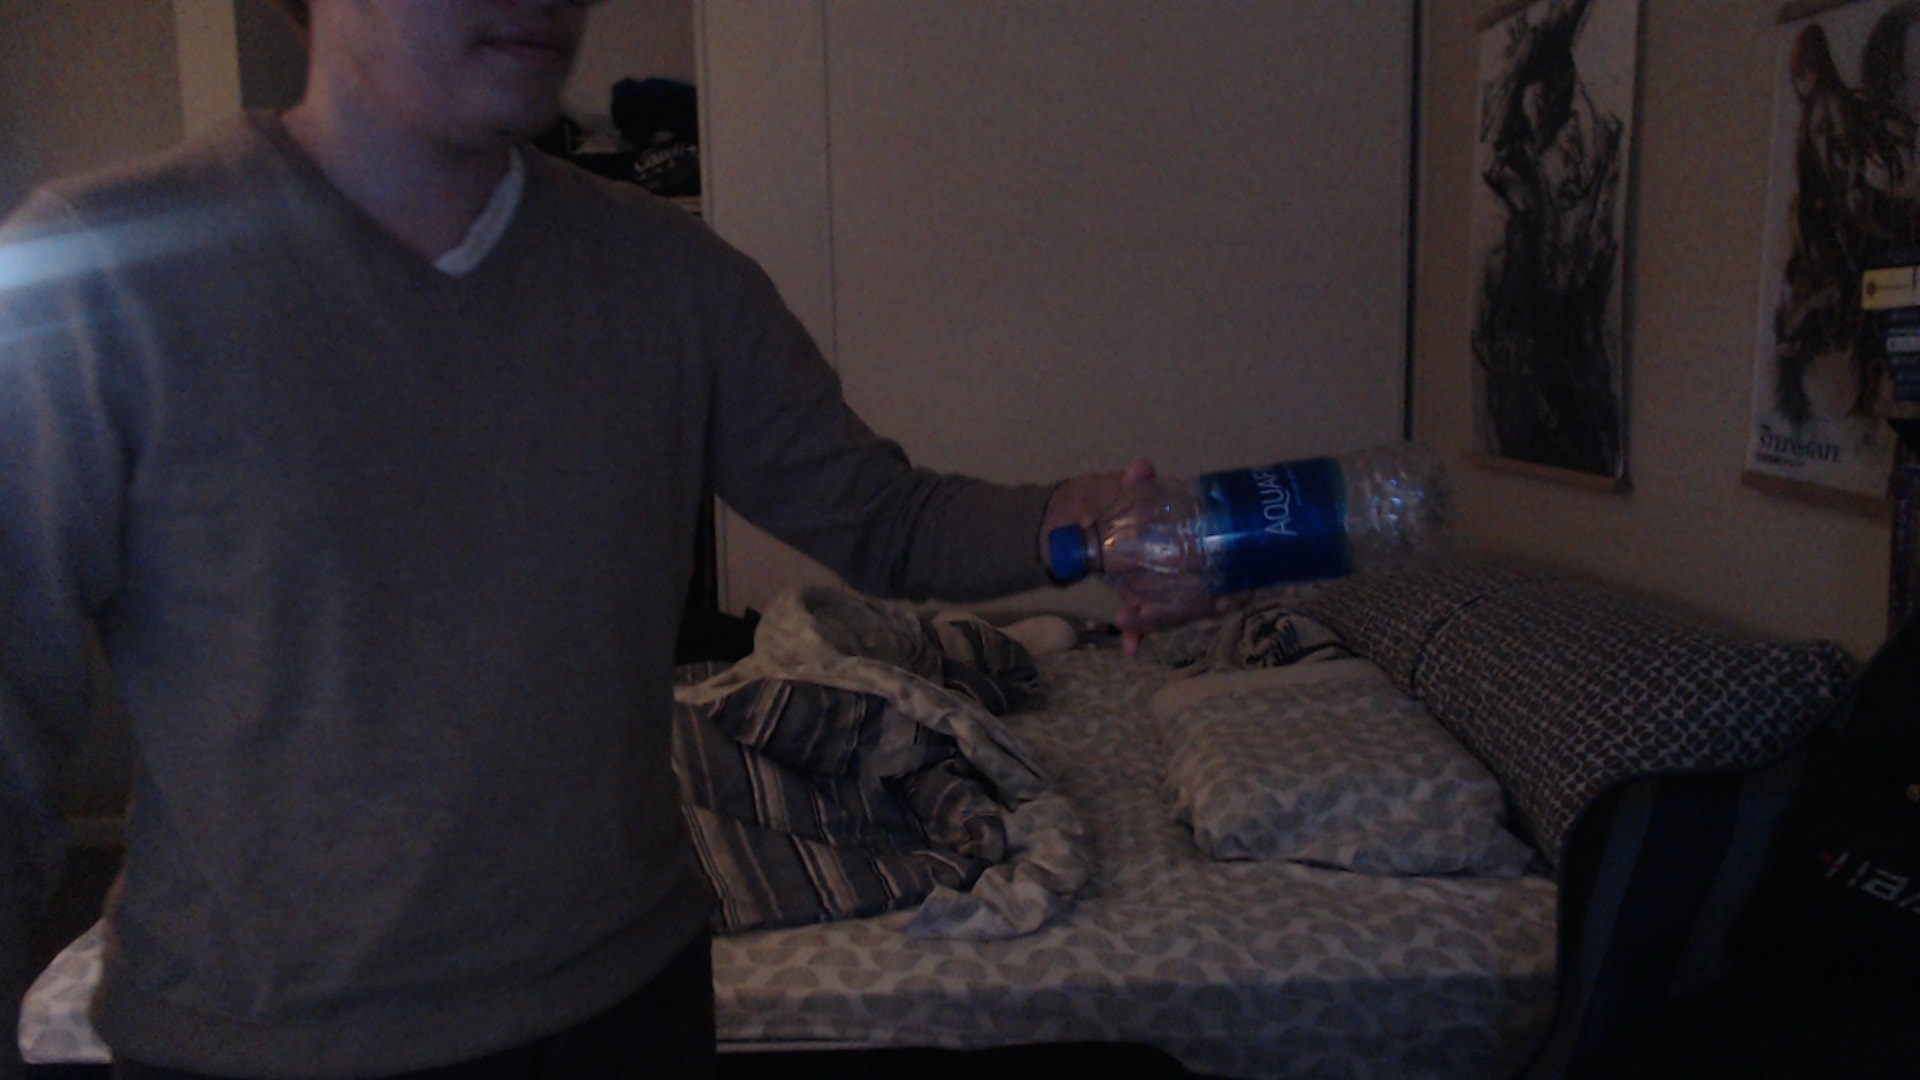bottle: (1040, 433, 1452, 611)
